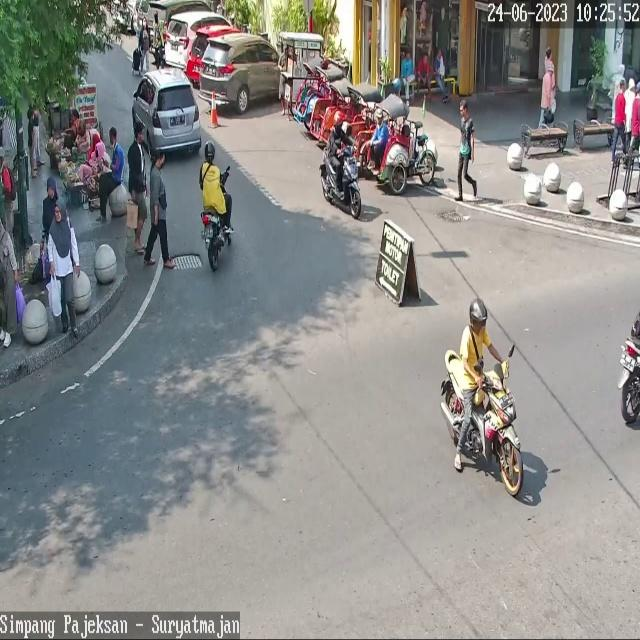bus: (442, 348, 524, 496), (200, 171, 233, 271), (322, 146, 360, 218), (620, 336, 640, 422)
motorcycle: (132, 67, 202, 160), (201, 34, 281, 114), (164, 9, 233, 67), (144, 0, 212, 54), (186, 24, 242, 82)
